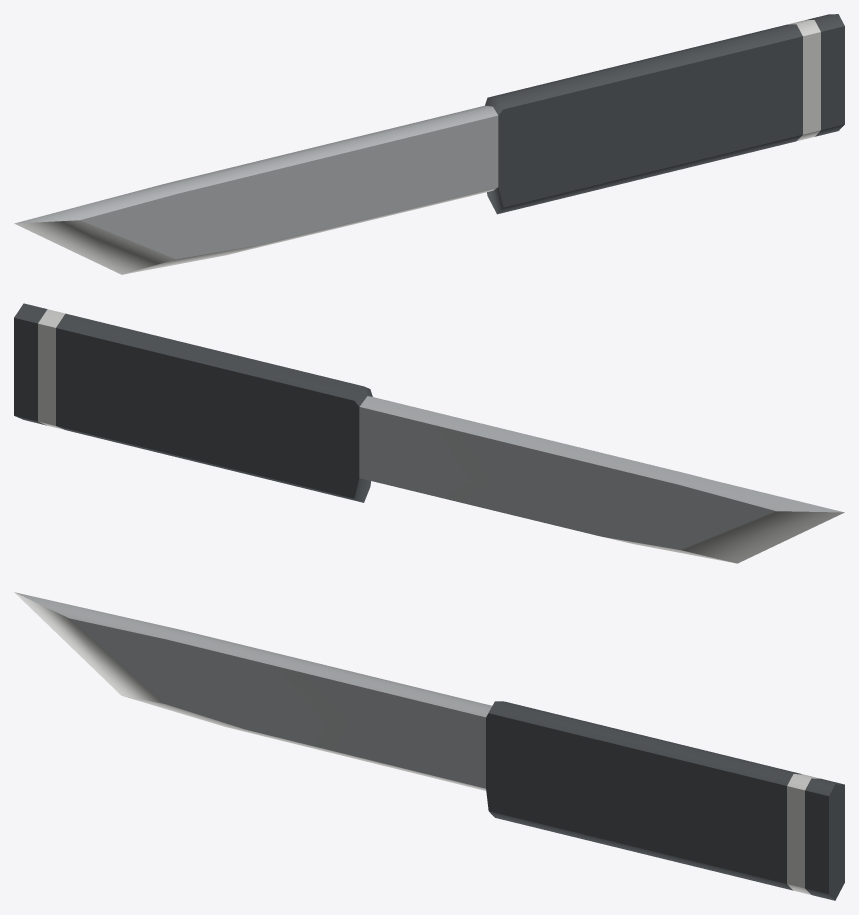
The model's file is knife.fbx.
3 views of the same model, one above another, from view 1: azimuth 30°, elevation 25°; view 2: azimuth 150°, elevation 25°; view 3: azimuth 330°, elevation 25° (orthographic).
Visible parts, largest first — view 1: knife; view 2: knife; view 3: knife.
Boxes of the visible parts, bbox=[...] form: knife: bbox=[14, 14, 844, 274]; knife: bbox=[14, 303, 844, 563]; knife: bbox=[14, 592, 844, 900].
Size of the model in its own units: 2.3 by 0.3115 by 0.0775.
